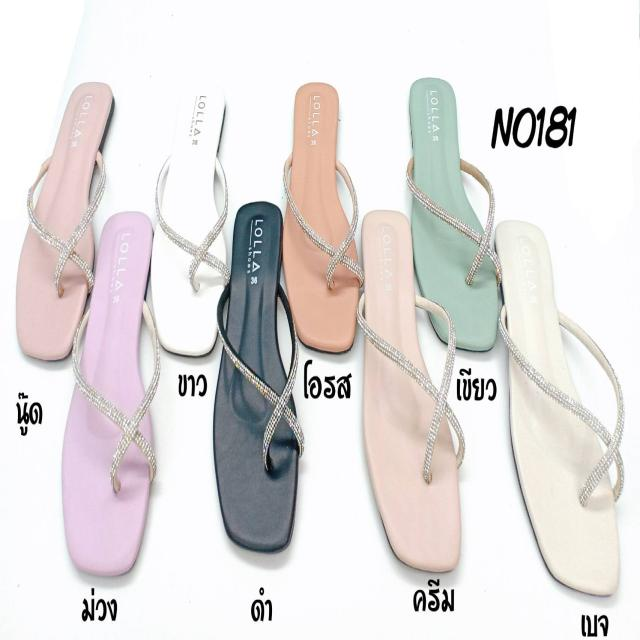bej: (494, 223, 622, 597)
black: (213, 206, 296, 548)
cream: (361, 212, 461, 574)
green: (408, 85, 496, 346)
nood: (18, 79, 112, 363)
orot: (283, 84, 356, 355)
purple: (64, 212, 155, 580)
white: (155, 92, 225, 358)
